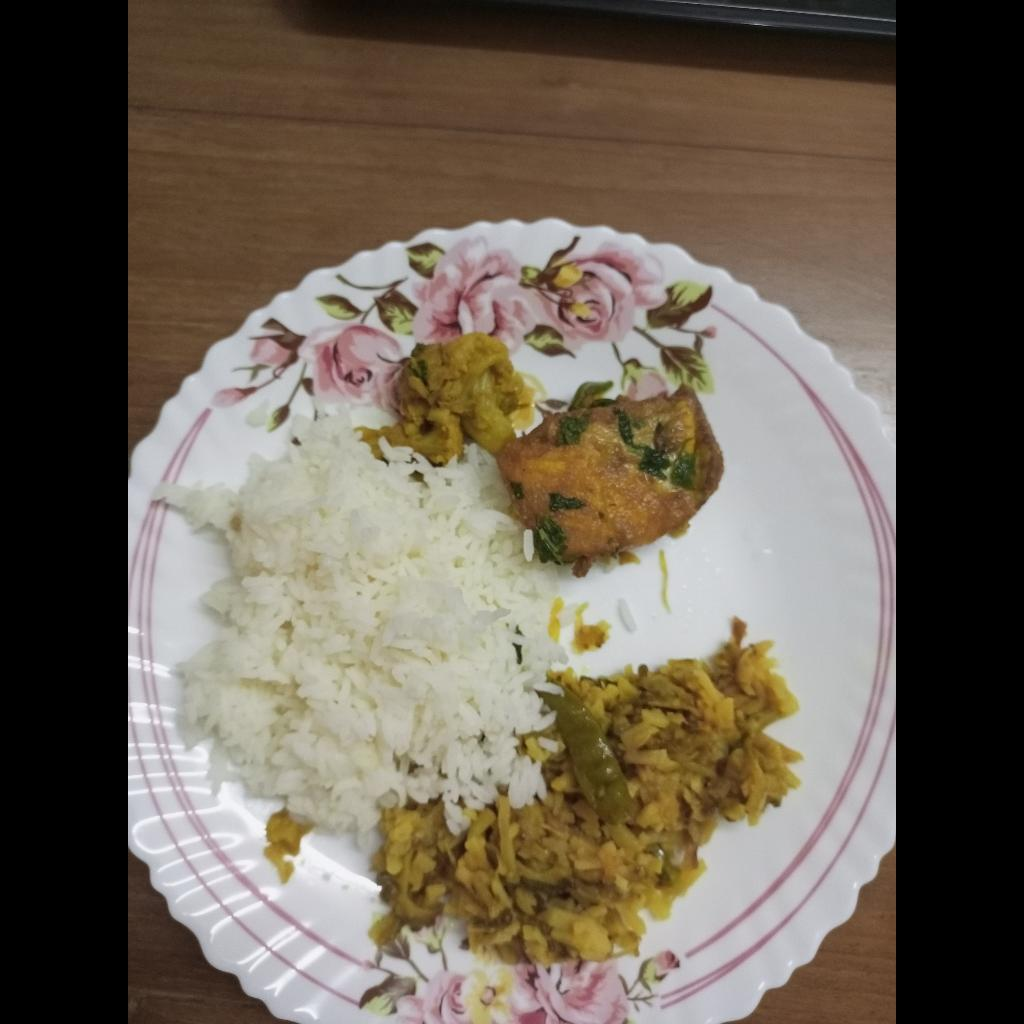cauliflower: (389, 322, 525, 465)
fish: (501, 376, 724, 575)
potato: (367, 608, 807, 979)
rice: (155, 394, 607, 860)
